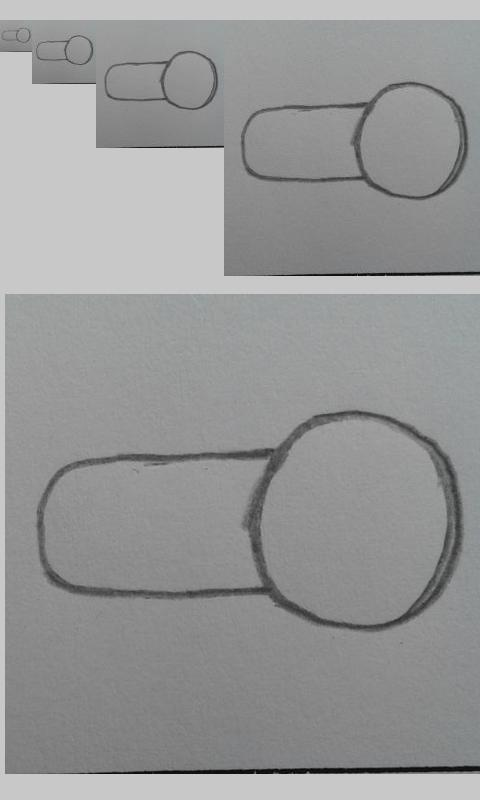switch: (35, 409, 465, 633), (240, 81, 469, 201), (104, 50, 218, 110), (36, 35, 94, 66), (1, 27, 31, 43)
